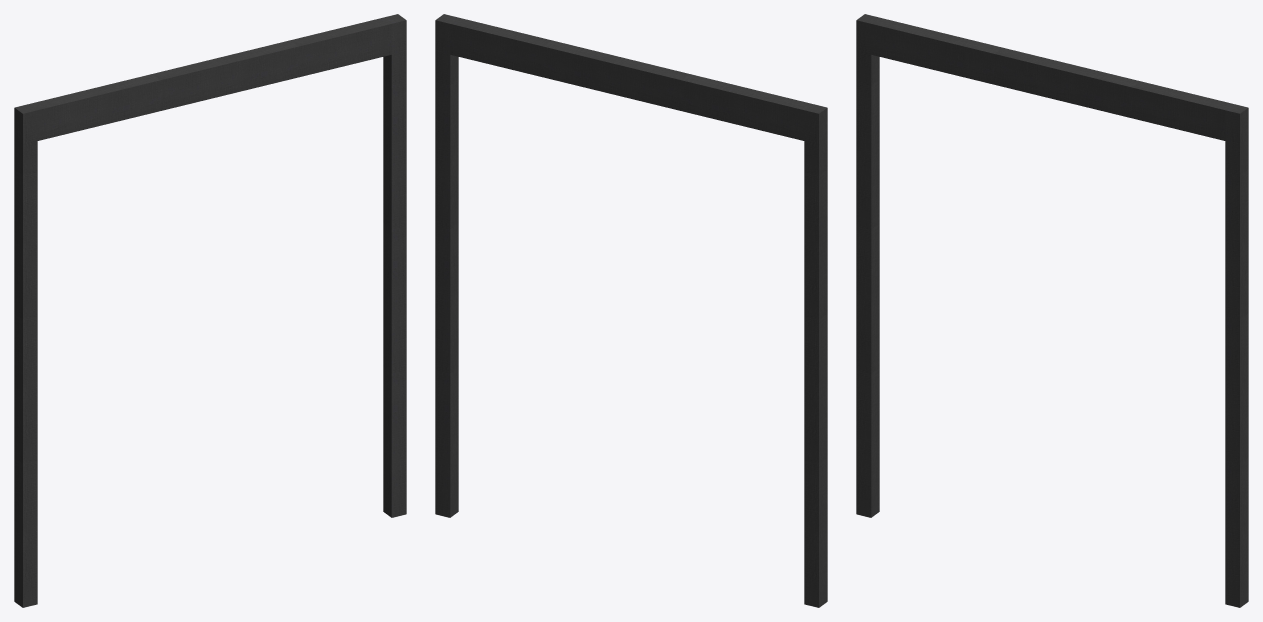
File: es-flame_h2400-w1800_kurocha.fbx
3 renders of one model, left to right at view 1: azimuth 30°, elevation 25°; view 2: azimuth 150°, elevation 25°; view 3: azimuth 330°, elevation 25°, orthographic.
Visible parts, largest first — view 1: es-flame_h2400-w1800_kurocha; view 2: es-flame_h2400-w1800_kurocha; view 3: es-flame_h2400-w1800_kurocha.
Boxes of the visible parts, bbox=[...] form: es-flame_h2400-w1800_kurocha: bbox=[14, 14, 406, 607]; es-flame_h2400-w1800_kurocha: bbox=[435, 14, 827, 607]; es-flame_h2400-w1800_kurocha: bbox=[856, 14, 1248, 607].
Bounding box in the file's own units: 195 × 240 × 7.5.
1 material, 1 textured.
